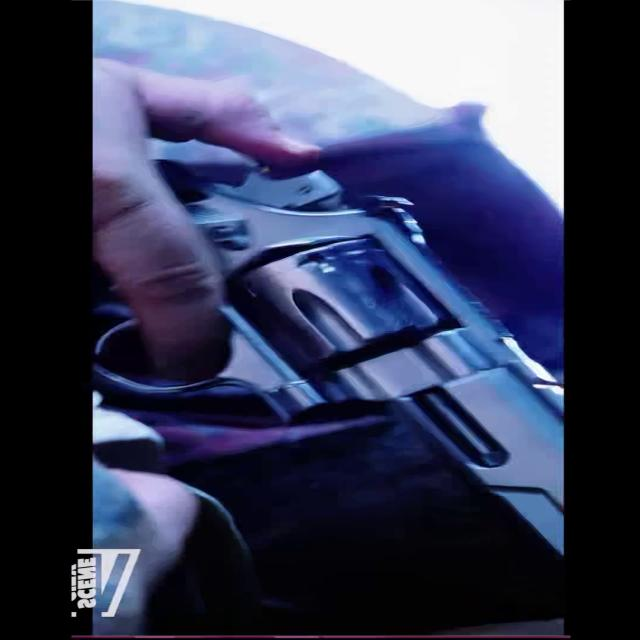weapons: (100, 136, 566, 556)
